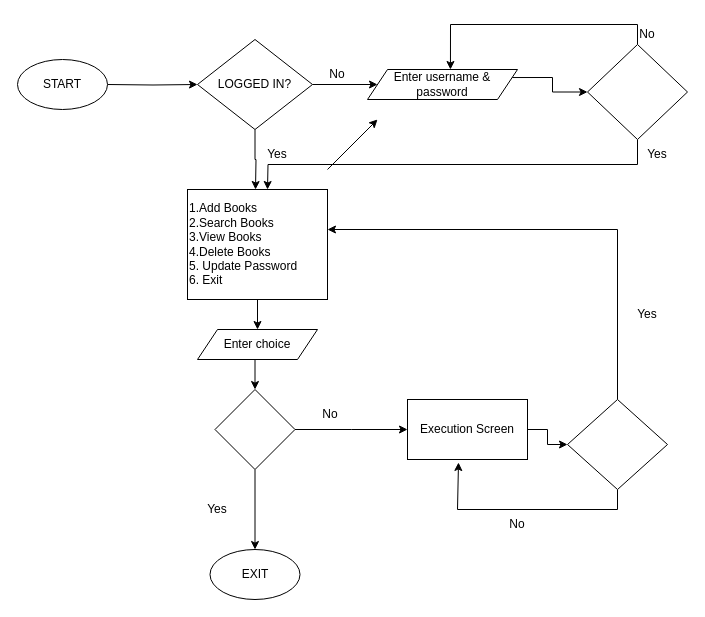
This 705x617 diagram has some shape labels left out. The shapes that lost their labels are listed below. From the top down, each one's box as (x1, y1, x2, y2) in pixels, then its label:
(586, 44, 688, 140): Correct credentials ?
(214, 388, 295, 470): Choice = 6 ?
(566, 398, 668, 490): Execution Completed ?
